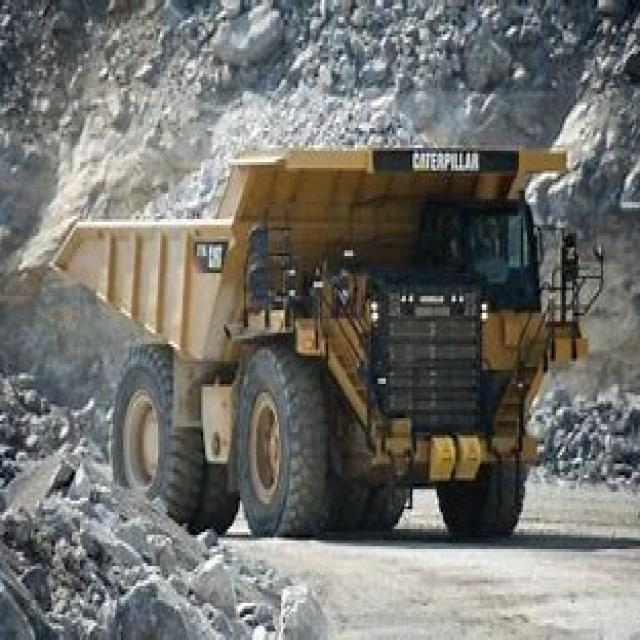dump_truck: (53, 131, 587, 563)
